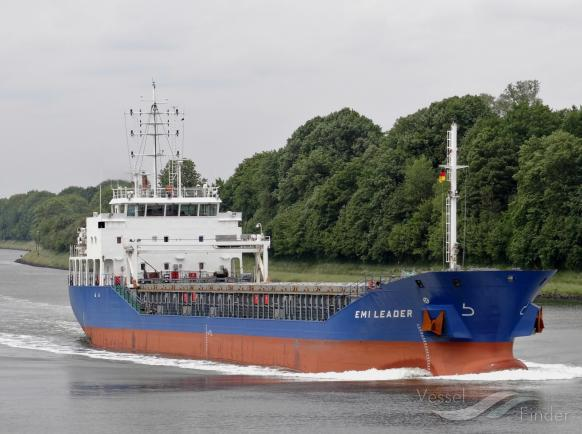OCR: (348, 304, 414, 322)
